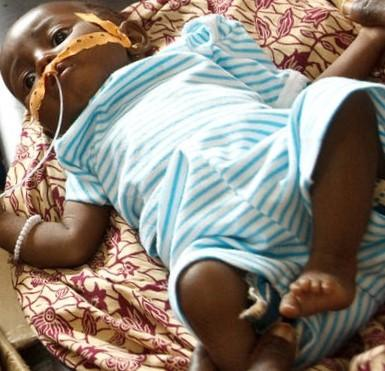Stunting: (0, 2, 166, 132)
